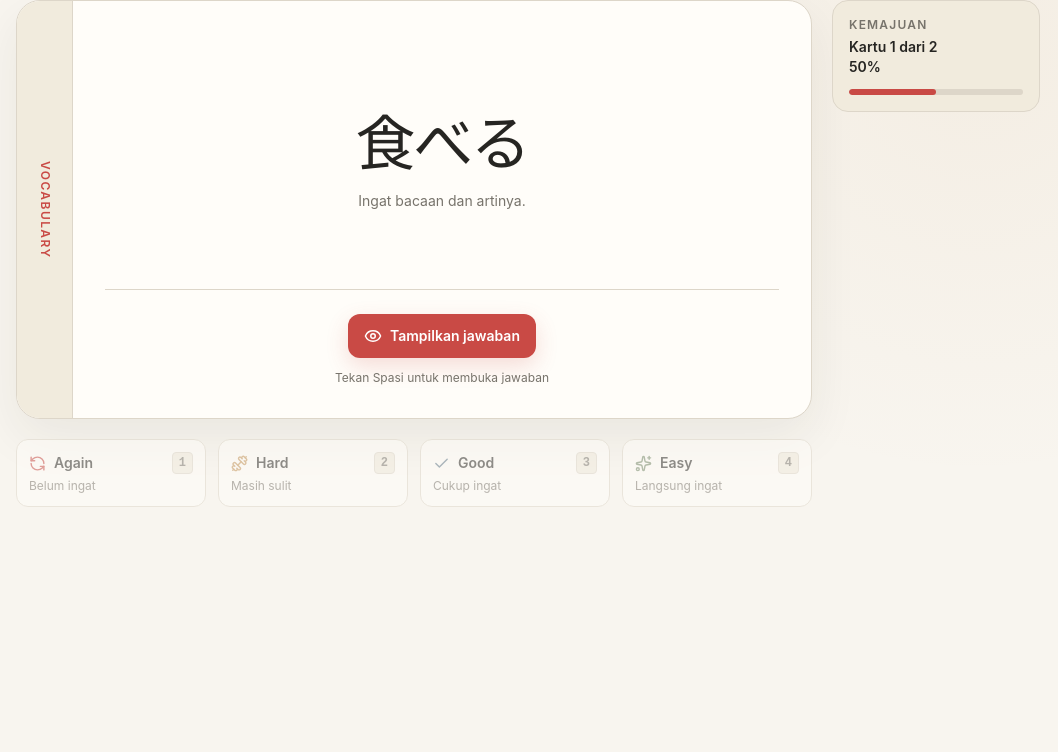
FlashcardSession › reveals Japanese answer content and moves focus to it
Click the button "Tampilkan jawaban" at (442, 336), box left=348, top=314, right=536, bottom=358
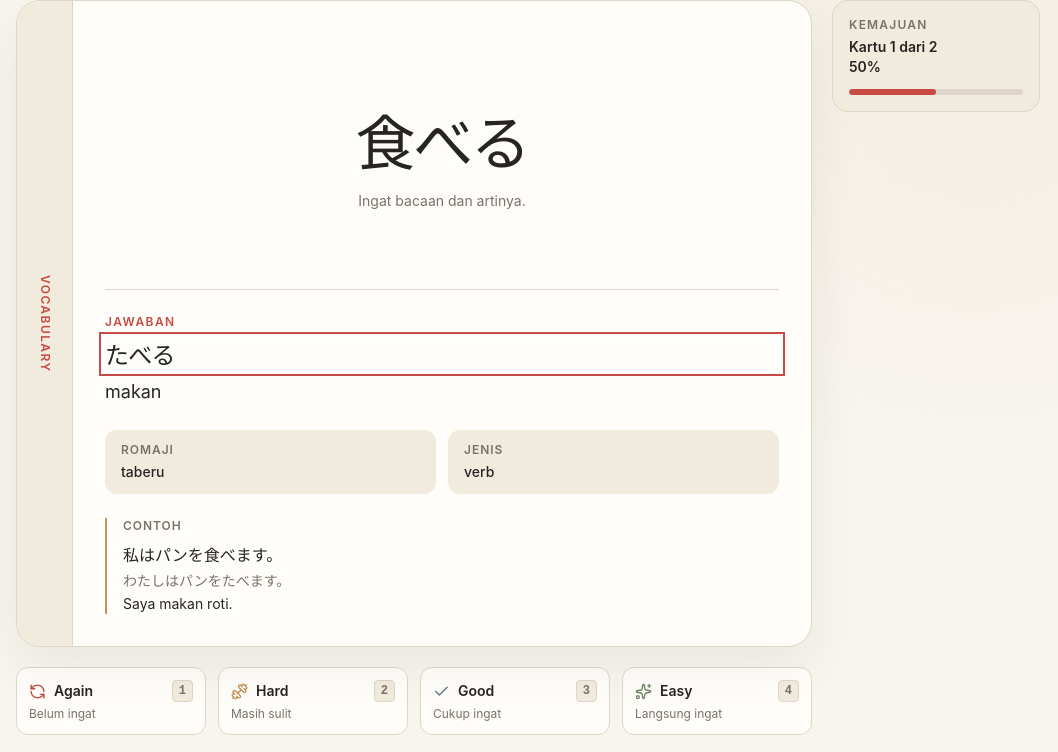
Now the text "makan" is shown, box left=105, top=381, right=162, bottom=402
